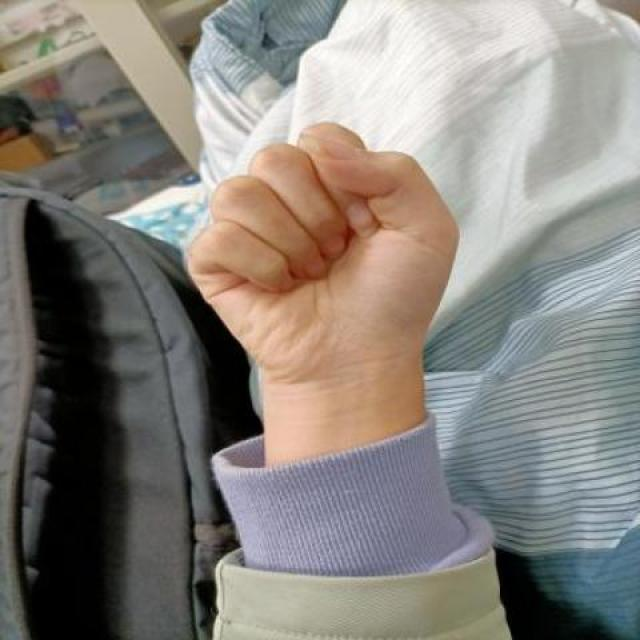Closed Hand: (152, 110, 467, 386)
